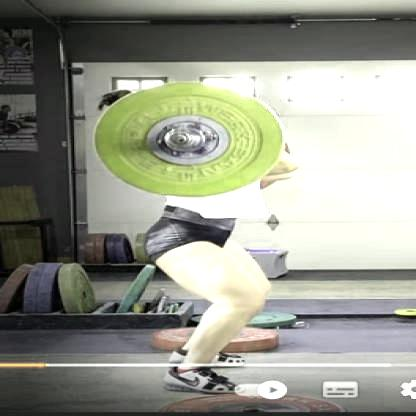Barbell: (166, 131, 195, 148)
